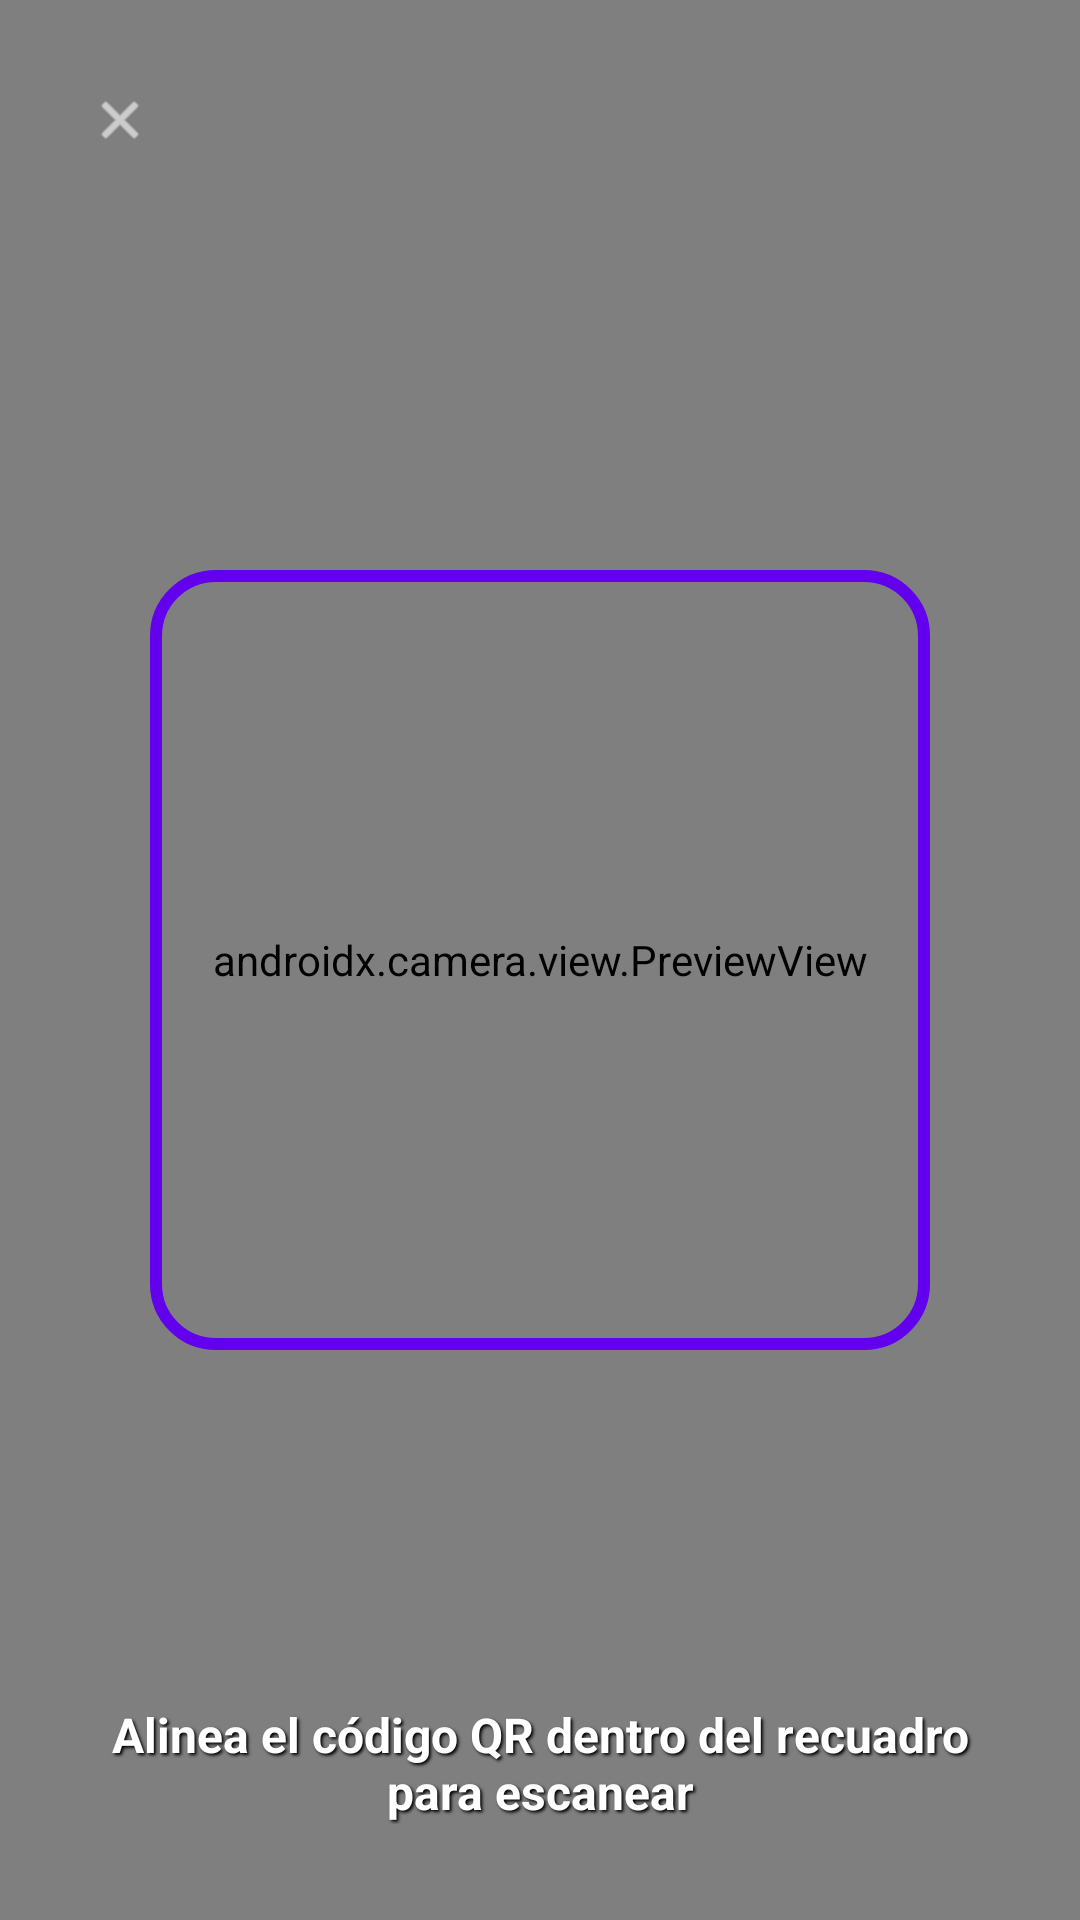

Screen size 1080×1920. Icon name, then its center in pixels as (x=x, y=y):
close clear cancel: (x=120, y=120)
